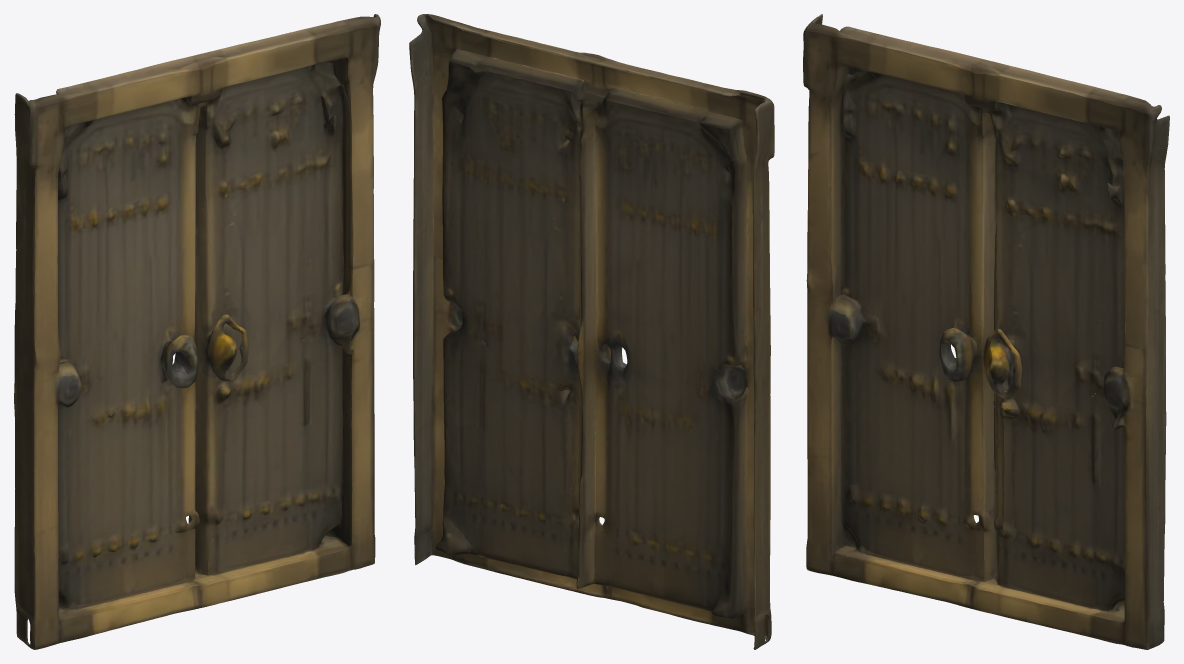
The model's file is door-leaf.glb.
3 renders of one model, left to right at view 1: azimuth 30°, elevation 25°; view 2: azimuth 150°, elevation 25°; view 3: azimuth 330°, elevation 25°, orthographic.
Parts seen in each view (by area): view 1: geometry_0; view 2: geometry_0; view 3: geometry_0.
Boxes of the visible parts, <box> form: geometry_0: <box>14,14,380,649</box>; geometry_0: <box>409,14,774,649</box>; geometry_0: <box>803,14,1169,649</box>.
Size of the model in its own units: 2.02 by 3 by 0.293.
Materials: 1 (1 with a texture image).
